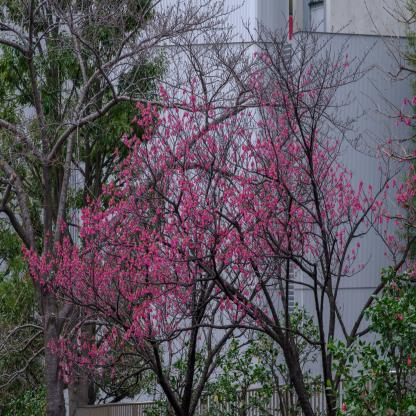KanhiSakura: (184, 23, 416, 350), (23, 83, 253, 389)
